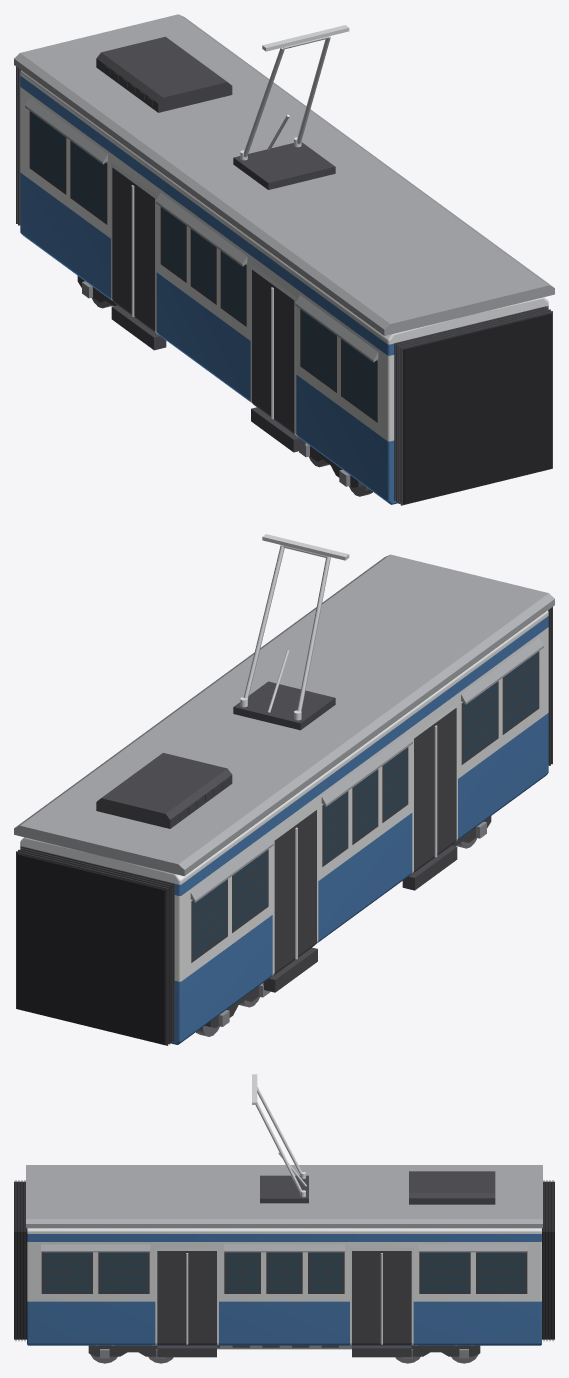
The model's file is middle_4_close.fbx.
3 renders of one model, top to bottom at view 1: azimuth 30°, elevation 25°; view 2: azimuth 150°, elevation 25°; view 3: azimuth 270°, elevation 25°, orthographic. The views are drawn at different scales.
Parts seen in each view (by area): view 1: 14_middle_4_close; view 2: 14_middle_4_close; view 3: 14_middle_4_close.
Boxes of the visible parts, x1,y1,x2,y2 form: 14_middle_4_close: (14,14,554,505); 14_middle_4_close: (14,534,554,1045); 14_middle_4_close: (14,1074,554,1363).
Bounding box in the file's own units: 2.54 × 5.21 × 10.
